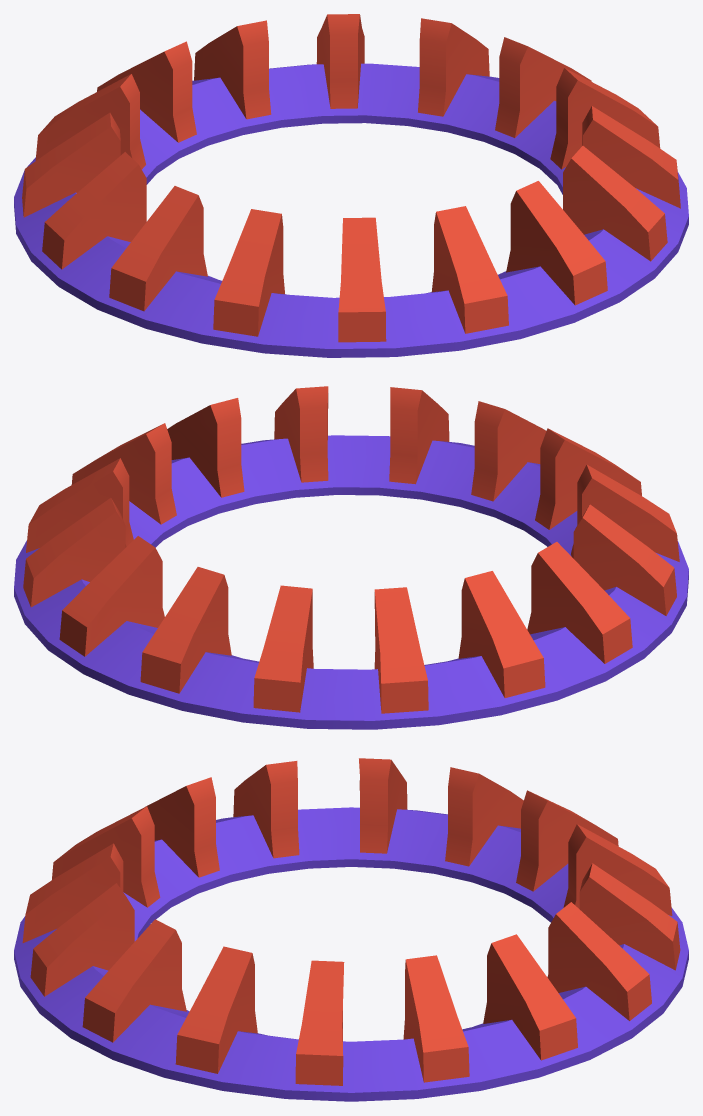
Rendered from RoofRoof.fbx.
The picture shows the model from 3 angles, top to bottom: view 1: azimuth 30°, elevation 25°; view 2: azimuth 150°, elevation 25°; view 3: azimuth 270°, elevation 25°; orthographic projection.
Parts seen in each view (by area): view 1: RoofSpikes; view 2: RoofSpikes; view 3: RoofSpikes.
Boxes of the visible parts, x1,y1,x2,y2 form: RoofSpikes: (14, 14, 688, 357); RoofSpikes: (14, 386, 688, 729); RoofSpikes: (14, 758, 688, 1101).
Size of the model in its own units: 8951 by 1450 by 8951.
